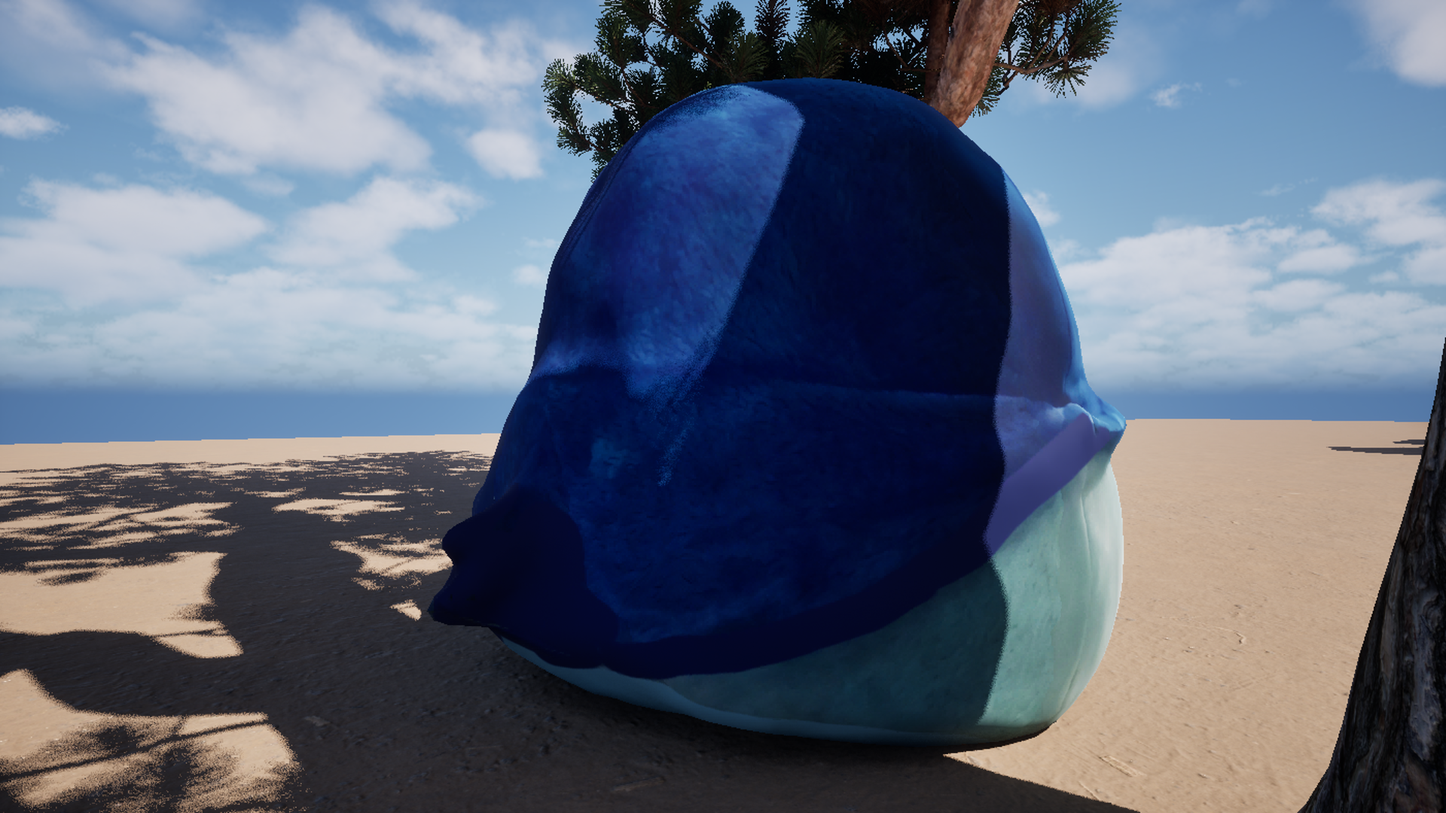Piplup: (343, 0, 1219, 813)
